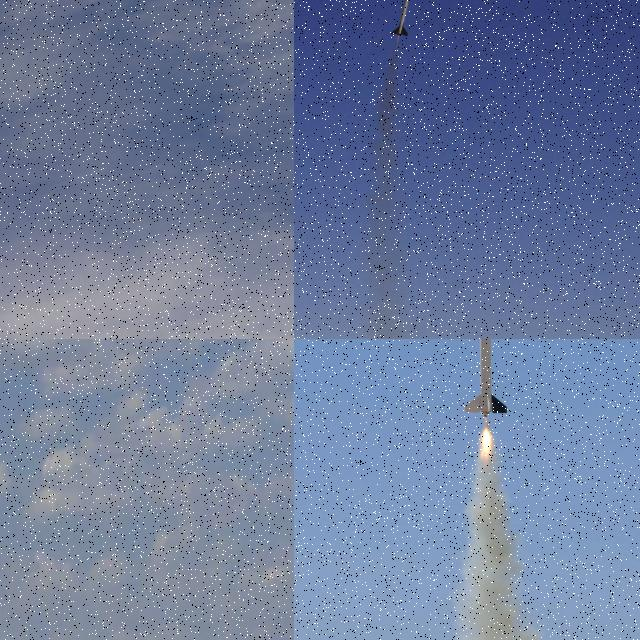Rocket: (464, 339, 509, 416), (390, 0, 411, 37)
